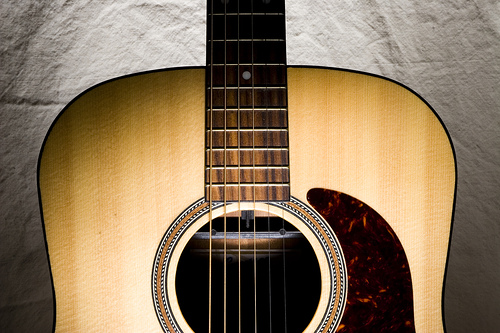guitar: (32, 1, 459, 333)
